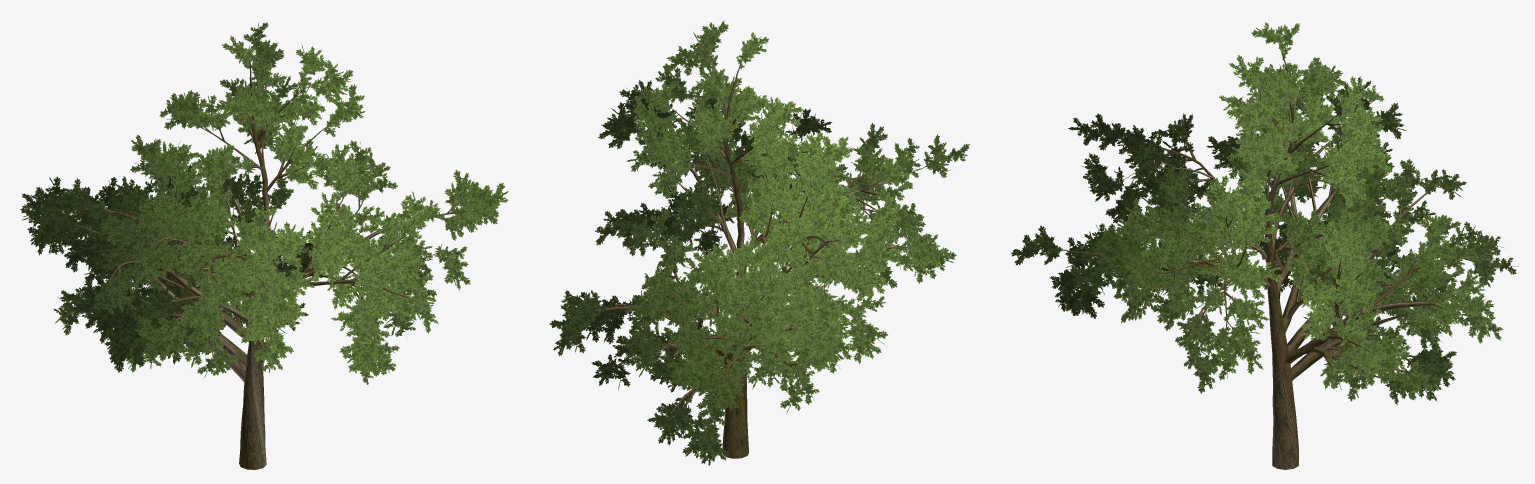
The model's file is giant_oak.glb.
The picture shows the model from 3 angles, left to right: view 1: azimuth 30°, elevation 25°; view 2: azimuth 150°, elevation 25°; view 3: azimuth 270°, elevation 25°; orthographic projection. The views are drawn at different scales.
Visible parts, largest first — view 1: leaves, trunk; view 2: leaves, trunk; view 3: leaves, trunk.
Part boxes in pixels (x1=…): leaves: x1=20, y1=22, x2=508, y2=385; trunk: x1=50, y1=56, x2=477, y2=469; leaves: x1=549, y1=21, x2=969, y2=465; trunk: x1=567, y1=51, x2=929, y2=458; leaves: x1=1011, y1=22, x2=1517, y2=404; trunk: x1=1050, y1=47, x2=1480, y2=469.
Size of the model in its own units: 30.61 by 32 by 33.99.
2 materials, 2 textured.
